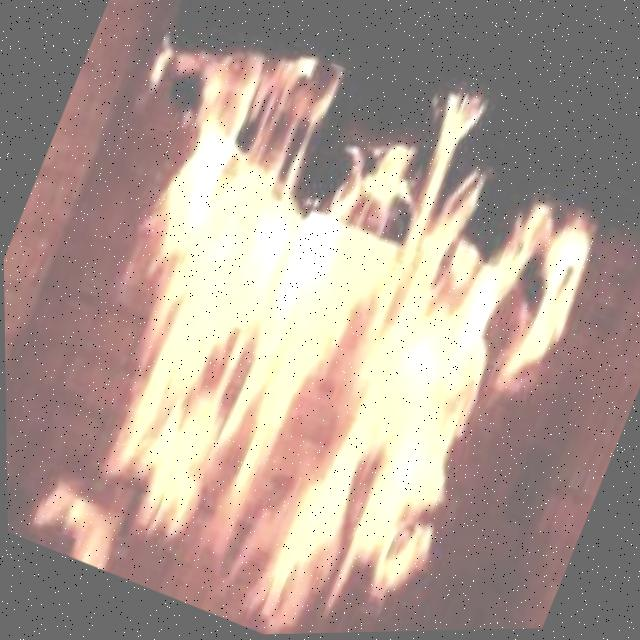Fire: (41, 90, 580, 639)
